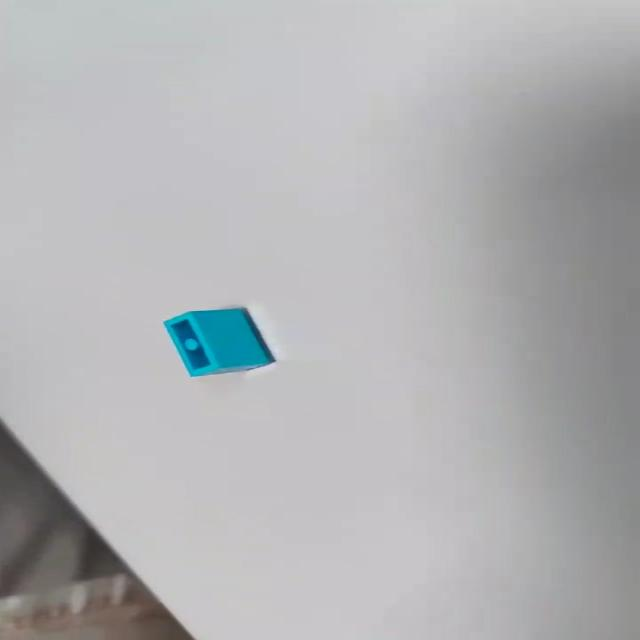C2x1x1: (161, 305, 275, 377)
